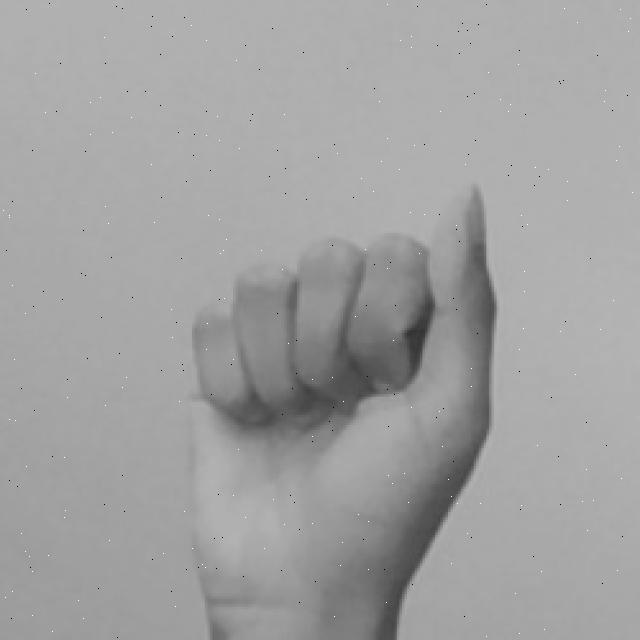A: (179, 178, 511, 640)
